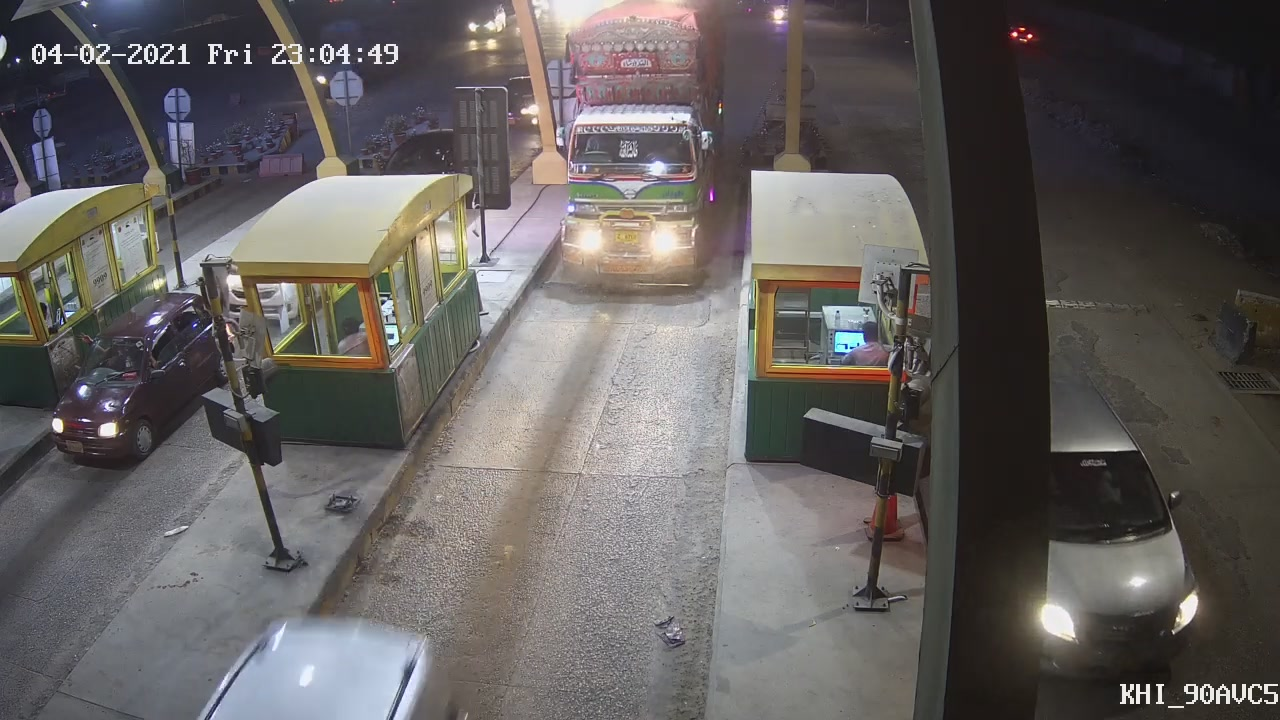F5: (546, 13, 733, 295)
